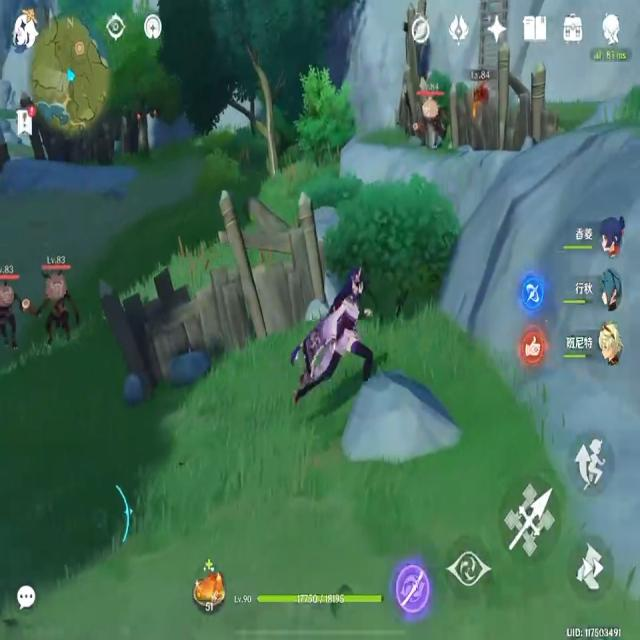genshin-hilichurls: (40, 268, 75, 344), (415, 99, 448, 152), (0, 274, 19, 347)
